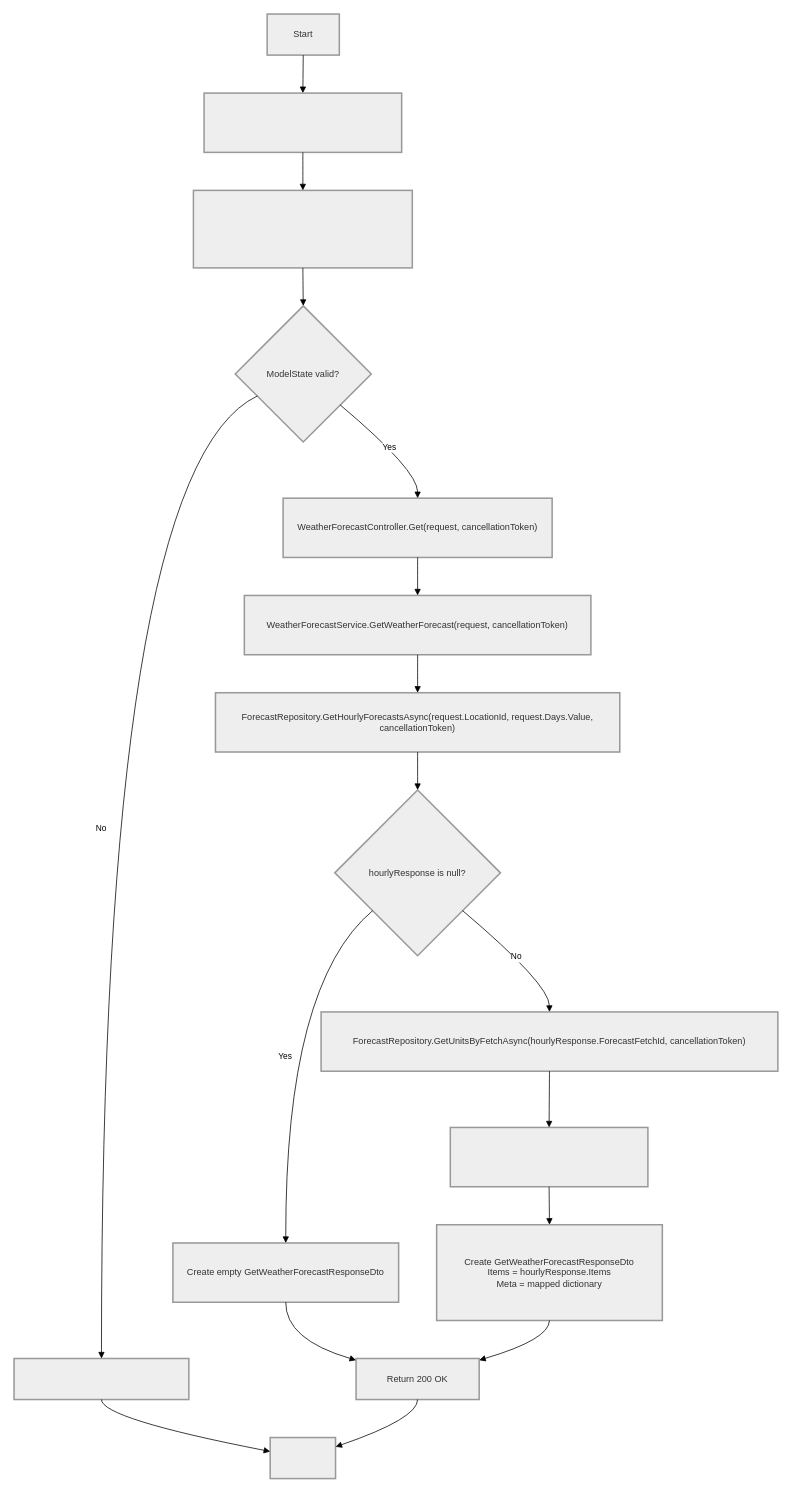
The diagram is 791 pixels wide and 1492 high, and some of its shapes have lost their labels. Each missing label, with the centre of its shape:
ASP.NET Core model binding + DTO validation GetWeatherForecastRequestDto: pixel 302 228
End: pixel 302 1457
HTTP GET /api/WeatherForecast: pixel 302 122
Map metaResponse with ToDictionary(...): pixel 548 1156
Return 400 Bad Request: pixel 101 1378
